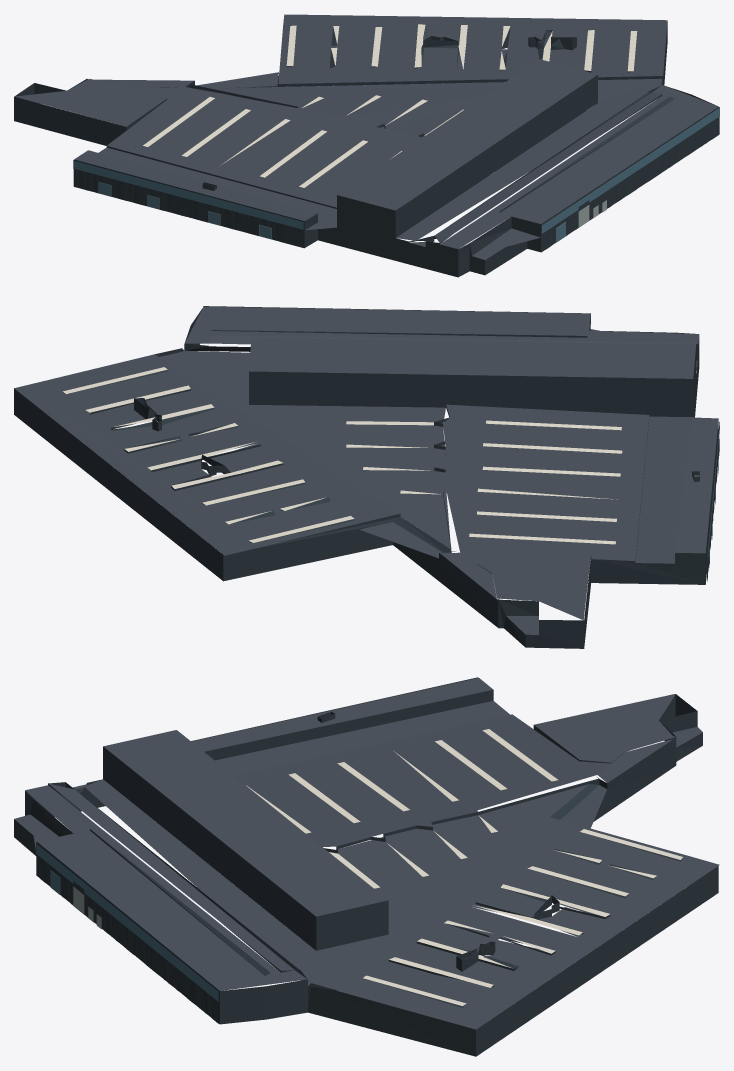
Rendered from monk-amsterdam.lod1.glb.
3 views of the same model, one above another, from view 1: azimuth 30°, elevation 25°; view 2: azimuth 150°, elevation 25°; view 3: azimuth 270°, elevation 25° (orthographic). The views are drawn at different scales.
Visible parts, largest first — view 1: monk-amsterdam; view 2: monk-amsterdam; view 3: monk-amsterdam.
Part boxes in pixels (box(x1,y1,x2,y2)): monk-amsterdam: box(14, 14, 719, 277); monk-amsterdam: box(14, 306, 719, 648); monk-amsterdam: box(14, 677, 719, 1056).
Bounding box in the file's own units: 181 × 14.65 × 155.
